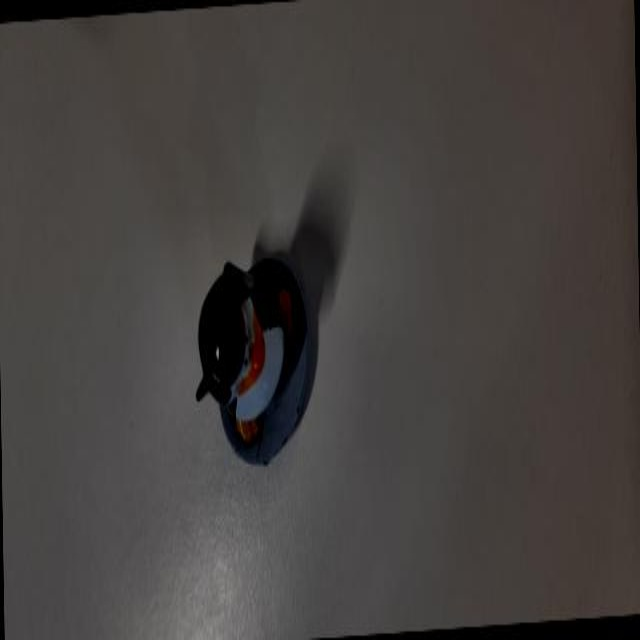Penguin: (187, 229, 325, 500)
